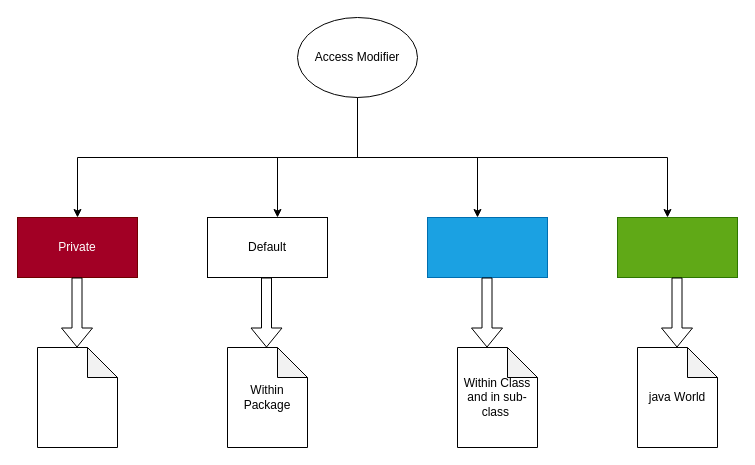
This 755x465 diagram has some shape labels left out. Here are the shapes that lost their labels. From the top down, the centre of each, then its label:
the point at 487,247: protected
the point at 677,247: Public
the point at 77,397: Inside class Only
